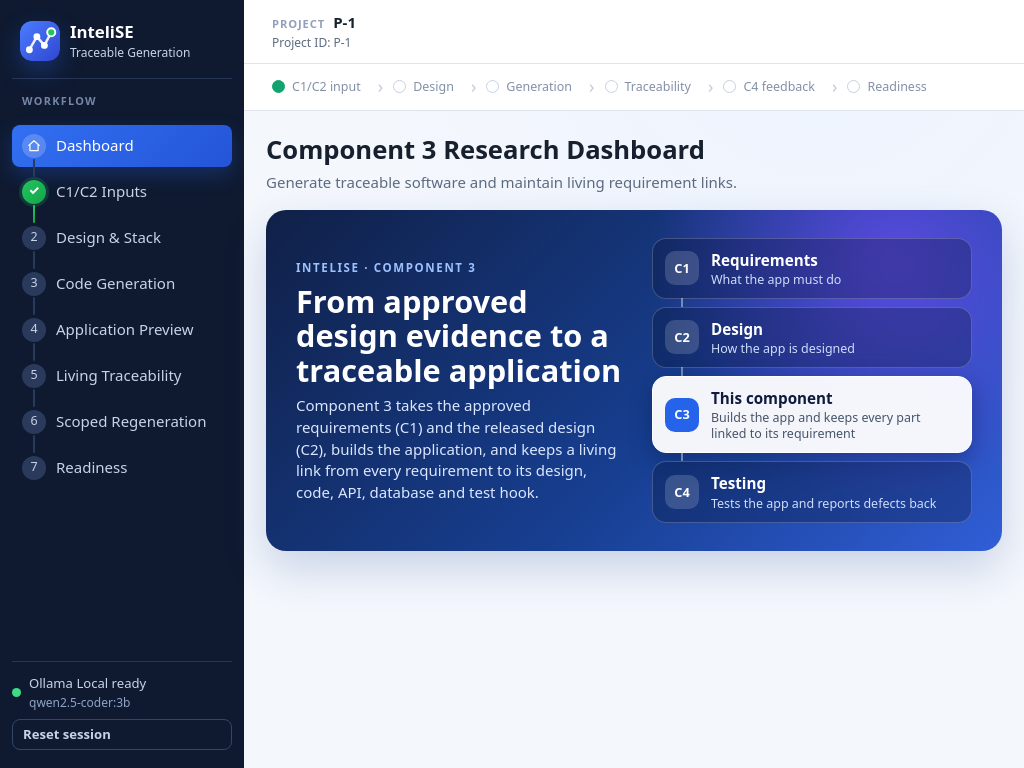
Design coverage card › recommends the custom profile for calculation inputs without maturity labels
The width and height of the screenshot is (1024, 768).
Click the button "2 Design & Stack" at (122, 238), box [12, 216, 232, 258]
(page scrolled)
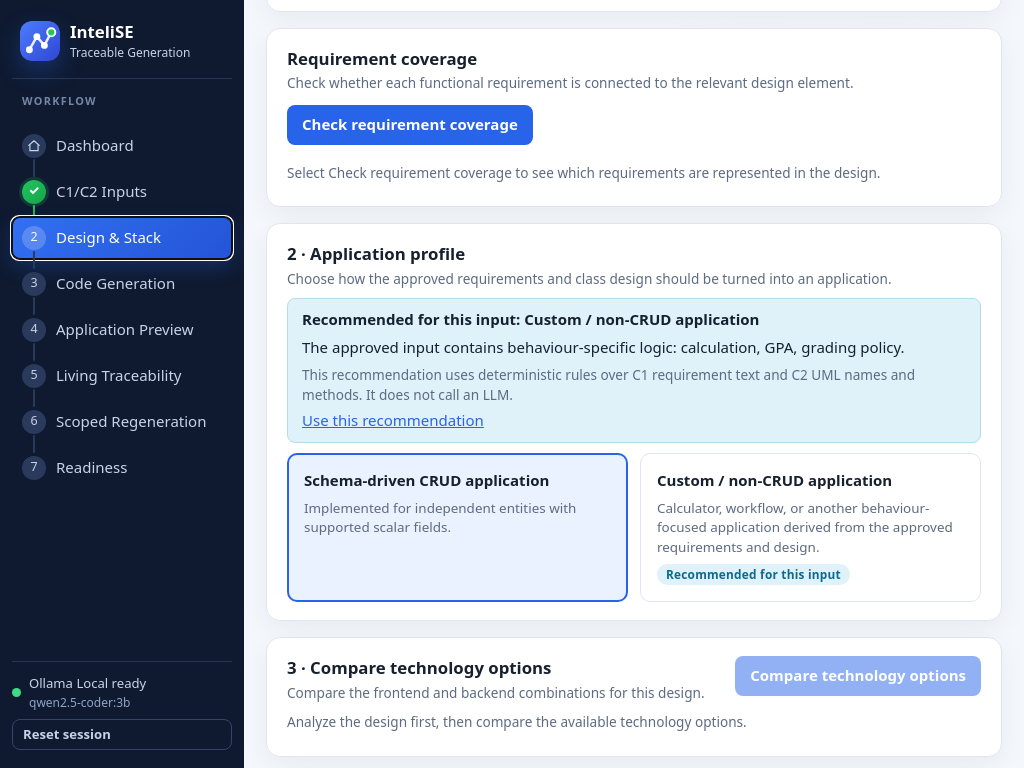
Expected: the text "Recommended for this input: Custom / non-CRUD application" is shown, [302, 309, 760, 329]
Expected: the text "deterministic rules over C1 requirement text and C2 UML names and methods" is shown, [302, 365, 915, 404]
